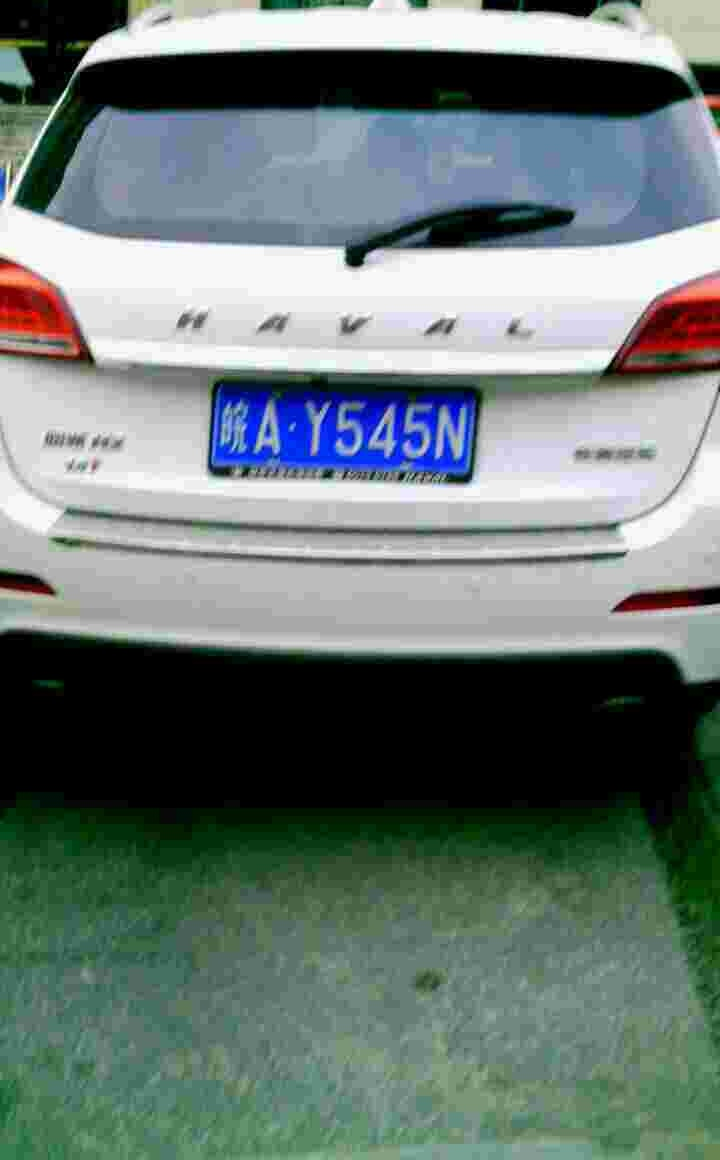license_plate: (211, 383, 470, 479)
